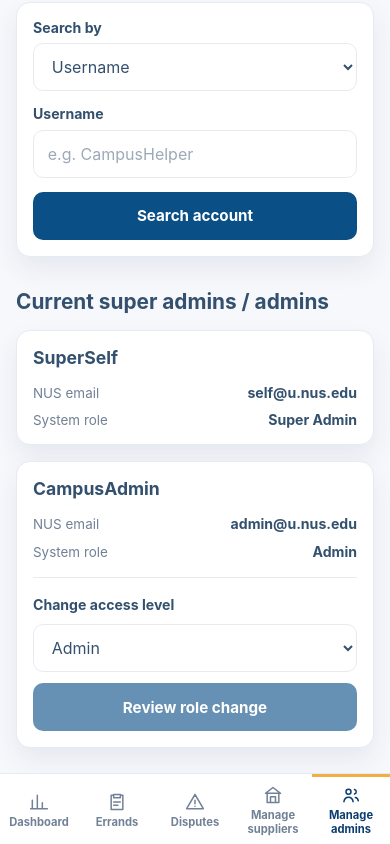
Test: Manage admins › removes a list row when demoted to User
The image size is (390, 844).
(page scrolled)
Select "User" in the dropdown labelled "Change access level" at (195, 648), box [33,624,357,672]
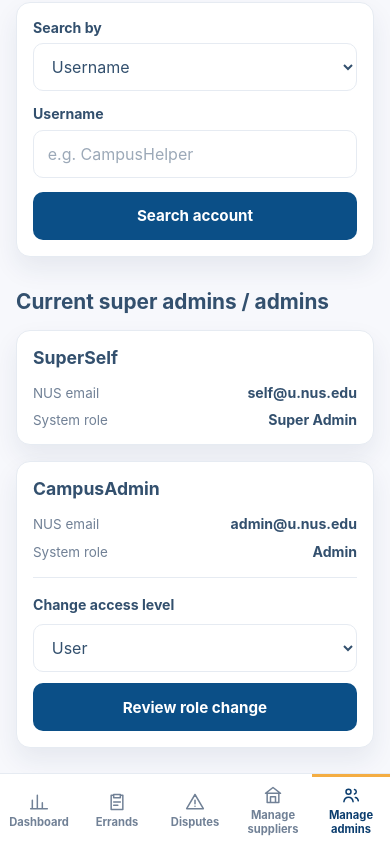
Now the button "Review role change" is enabled
Click the button "Review role change".
click(195, 707)  # box [33,683,357,731]
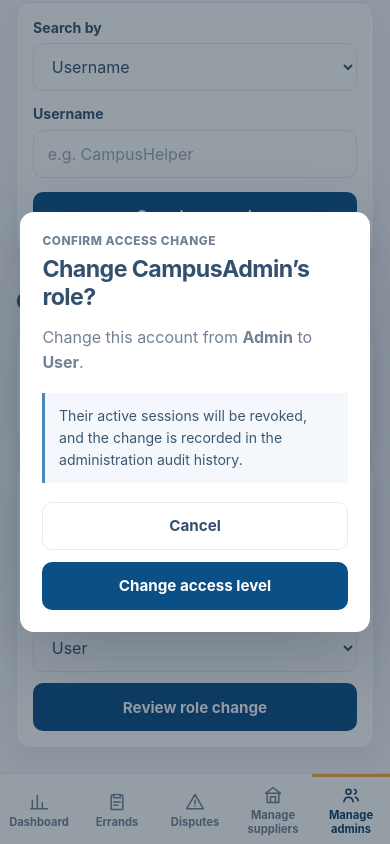
Now the dialog is shown, box [20,212,370,632]
Click the button "Change access level".
click(195, 586)  # box [42,562,348,610]
(page scrolled)
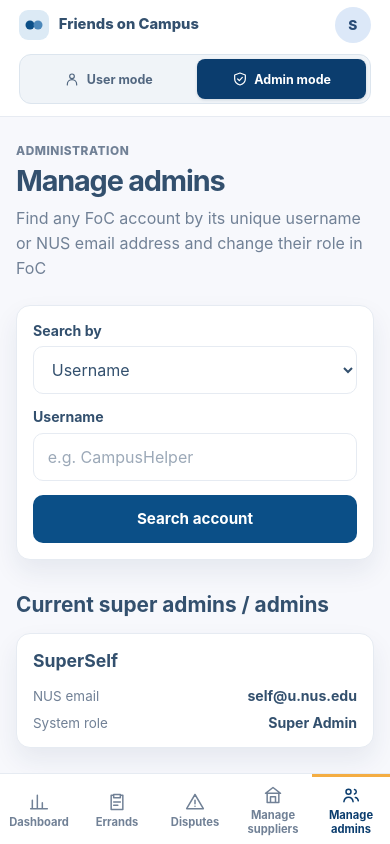
Now the heading "CampusAdmin" is gone
